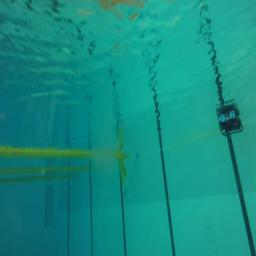front: (216, 116, 244, 138)
